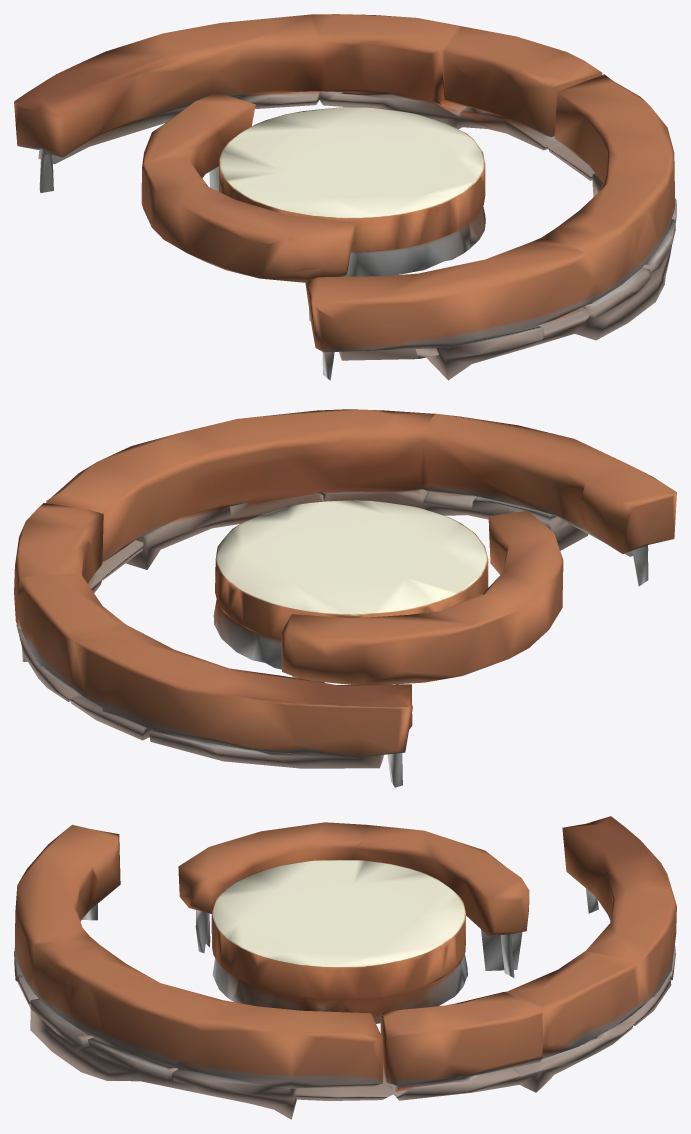
The model's file is island.glb.
The picture shows the model from 3 angles, top to bottom: view 1: azimuth 30°, elevation 25°; view 2: azimuth 150°, elevation 25°; view 3: azimuth 270°, elevation 25°; orthographic projection. The views are drawn at different scales.
Visible parts, largest first — view 1: tripo_node_48633a17-2f50-4547-a8e2-132c34a3f512; view 2: tripo_node_48633a17-2f50-4547-a8e2-132c34a3f512; view 3: tripo_node_48633a17-2f50-4547-a8e2-132c34a3f512.
Boxes of the visible parts, x1,y1,x2,y2 form: tripo_node_48633a17-2f50-4547-a8e2-132c34a3f512: [14, 14, 676, 380]; tripo_node_48633a17-2f50-4547-a8e2-132c34a3f512: [14, 409, 676, 787]; tripo_node_48633a17-2f50-4547-a8e2-132c34a3f512: [14, 816, 676, 1119].
Bounding box in the file's own units: 0.7959 × 0.1483 × 1.
Materials: 1 (1 with a texture image).
